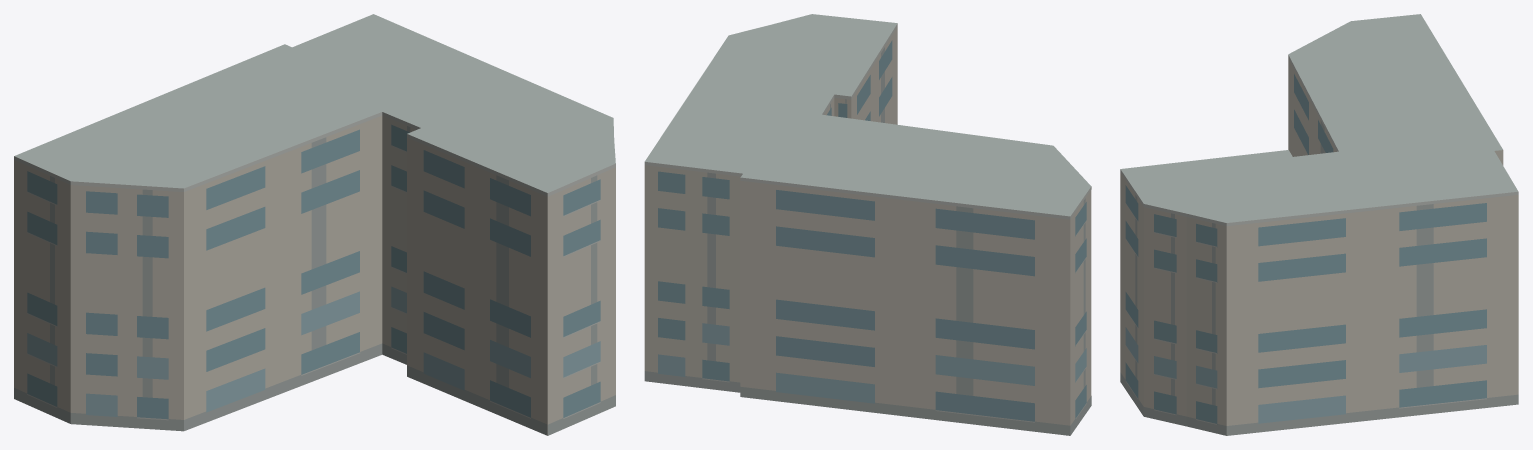
File: survey-upis-32934515.glb
The picture shows the model from 3 angles, left to right: view 1: azimuth 30°, elevation 25°; view 2: azimuth 150°, elevation 25°; view 3: azimuth 270°, elevation 25°; orthographic projection. The views are drawn at different scales.
Parts seen in each view (by area): view 1: survey-upis-32934515.tmp; view 2: survey-upis-32934515.tmp; view 3: survey-upis-32934515.tmp.
Boxes of the visible parts, x1,y1,x2,y2 form: survey-upis-32934515.tmp: [14, 14, 615, 435]; survey-upis-32934515.tmp: [644, 14, 1091, 435]; survey-upis-32934515.tmp: [1120, 14, 1518, 435].
Bounding box in the file's own units: 34.14 × 16.2 × 27.48.
